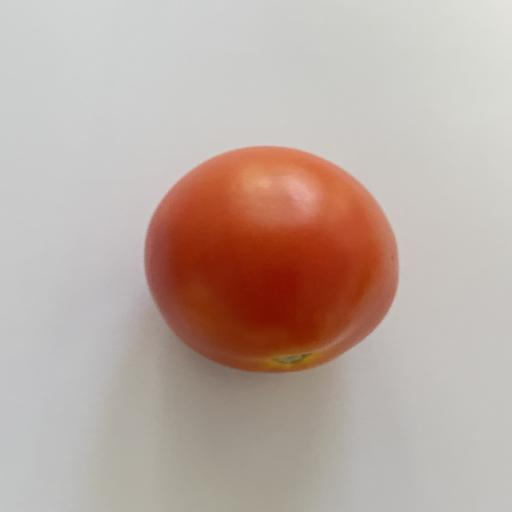ripe: (145, 147, 398, 372)
